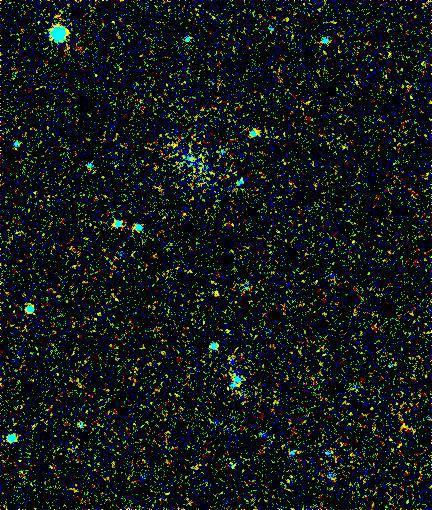star: (203, 279, 233, 309)
